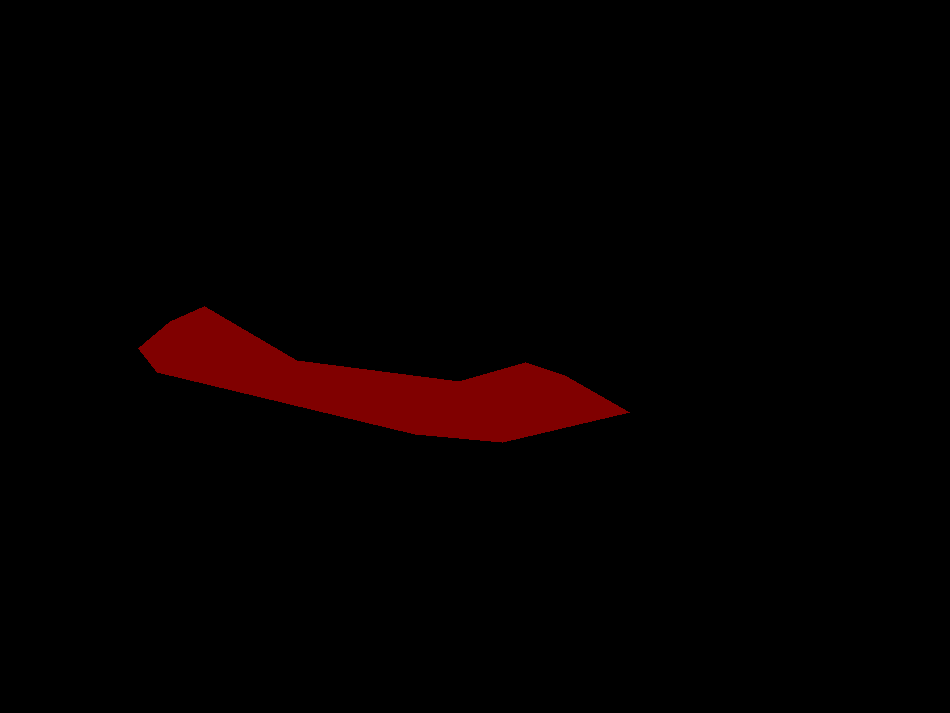fire: (138, 306, 629, 442)
